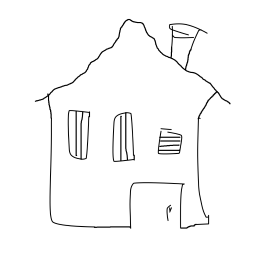chimney: (164, 12, 211, 80)
closed_window: (107, 106, 141, 166), (63, 104, 94, 168), (153, 118, 182, 164)
door: (124, 176, 189, 237)
single_line_roof: (31, 13, 239, 111)
wall: (42, 99, 214, 234)
